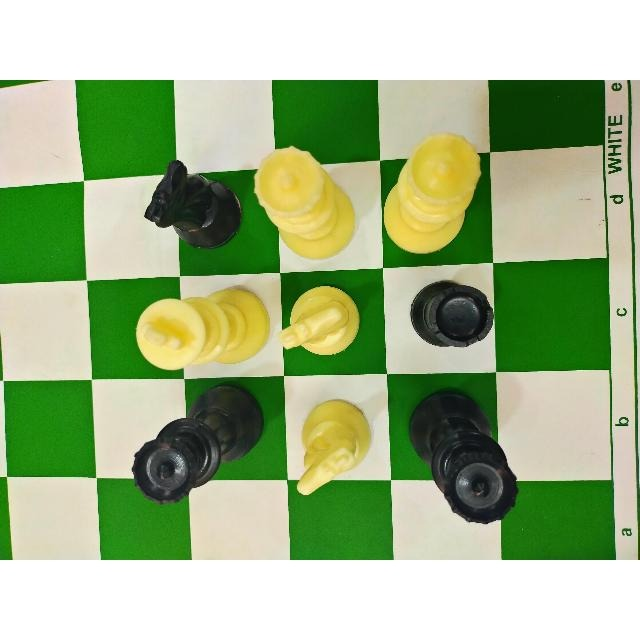black-knight: (142, 159, 244, 251)
black-queen: (129, 379, 266, 505), (406, 388, 519, 526)
black-rook: (409, 276, 495, 349)
white-king: (135, 283, 271, 373)
white-knight: (294, 396, 372, 499), (276, 282, 361, 357)
white-queen: (252, 143, 358, 263), (382, 131, 483, 256)
